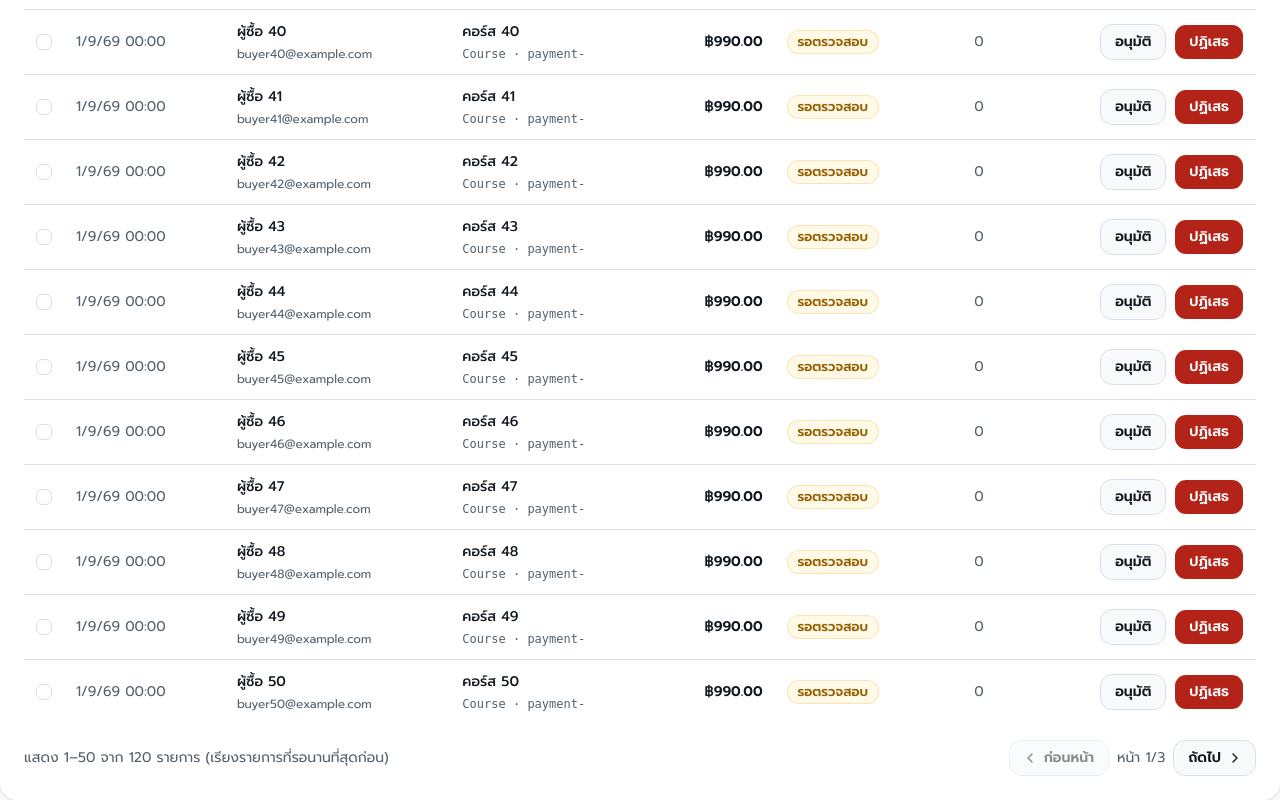
Test: Admin reconciliation queue states › pagination and search › shows the visible range against the total and moves between pages
The width and height of the screenshot is (1280, 800).
(page scrolled)
Expected: the text "แสดง 1–50 จาก 120 รายการ (เรียงรายการที่รอนานที่สุดก่อน)" is shown, [24, 748, 389, 768]
Expected: the text "หน้า 1/3" is shown, [1117, 748, 1165, 768]
Click the button "ถัดไป" at (1215, 758), box [1173, 740, 1256, 776]
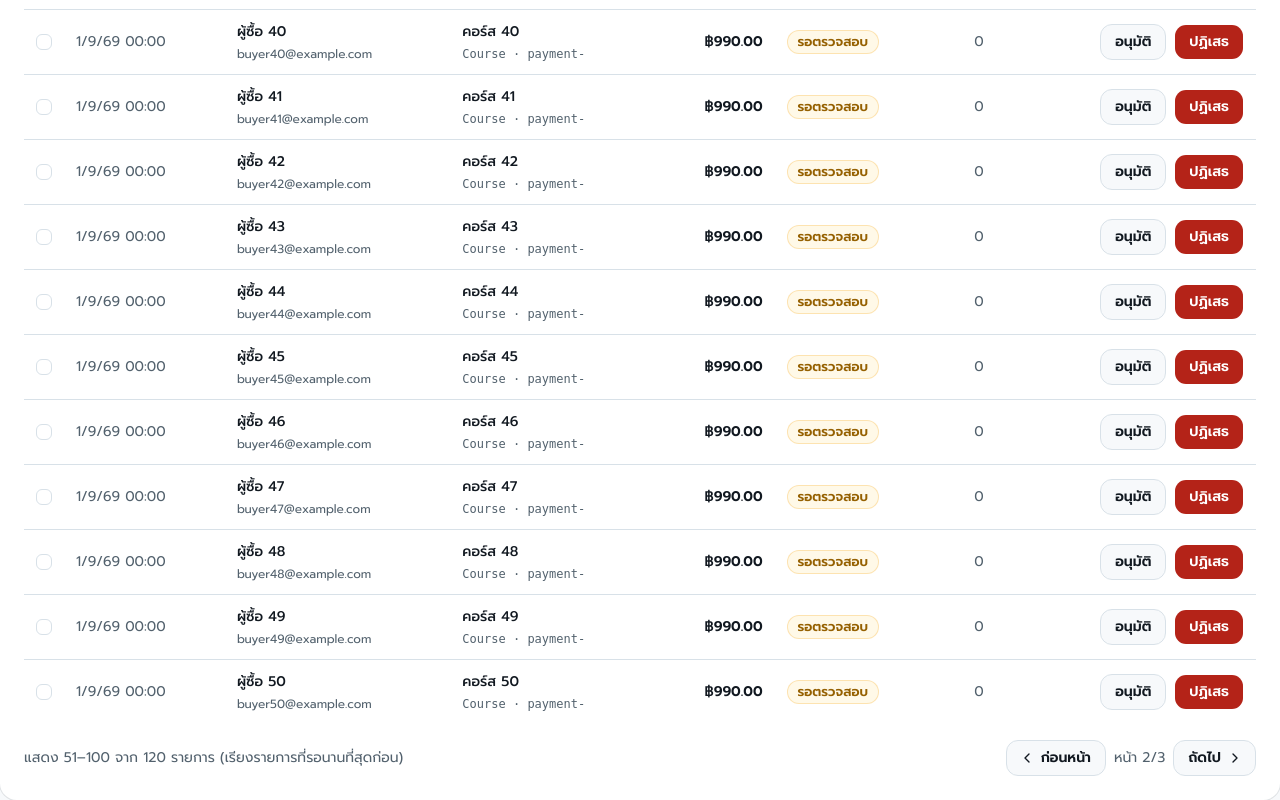
Result: the text "แสดง 51–100 จาก 120 รายการ (เรียงรายการที่รอนานที่สุดก่อน)" is shown at [24, 748, 403, 768]
